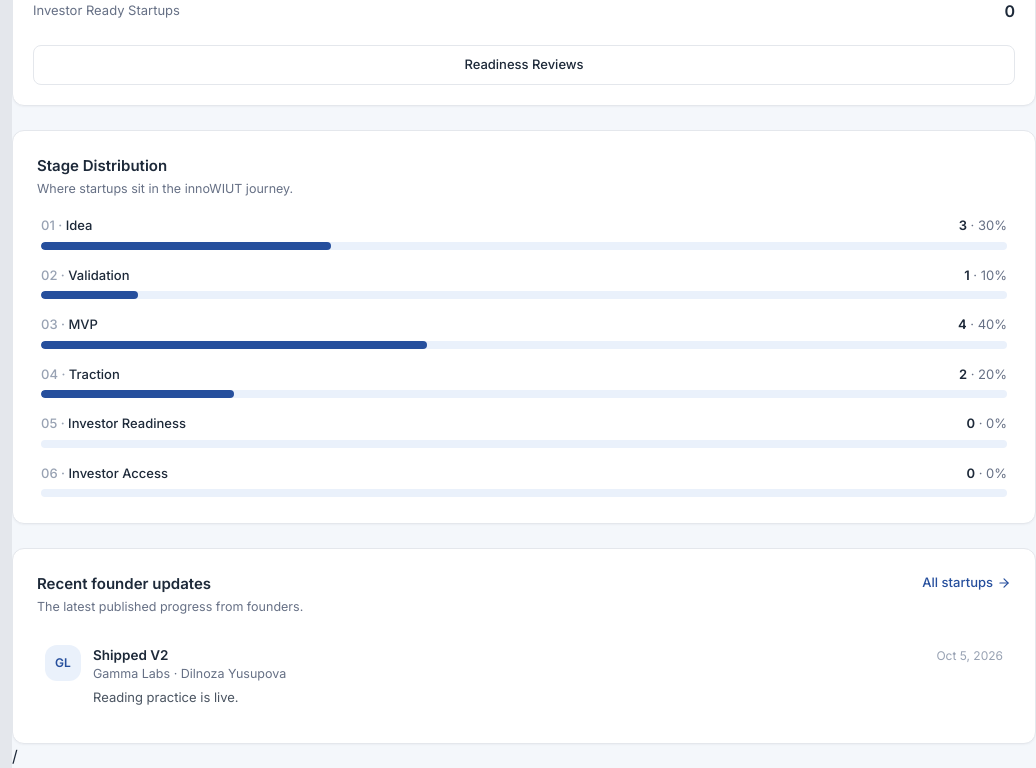
Test: AdminDashboardPage › shows recent founder updates and opens the startup
(page scrolled)
Click the button "Shipped V2" at (63, 662), box top-left (37, 632), bottom-right (1011, 719)
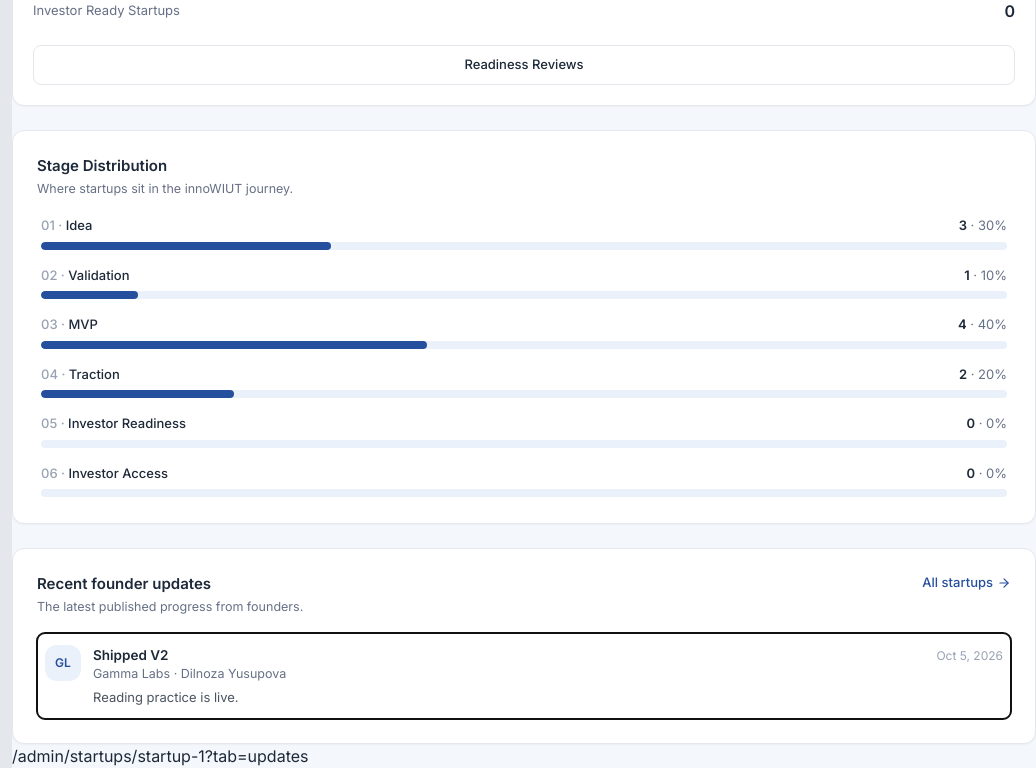
Expected: the text "Gamma Labs · Dilnoza Yusupova" is shown, top-left (93, 666), bottom-right (286, 681)
Expected: the text with test id "location" reads "/admin/startups/startup-1?tab=updates", top-left (12, 746), bottom-right (308, 766)
